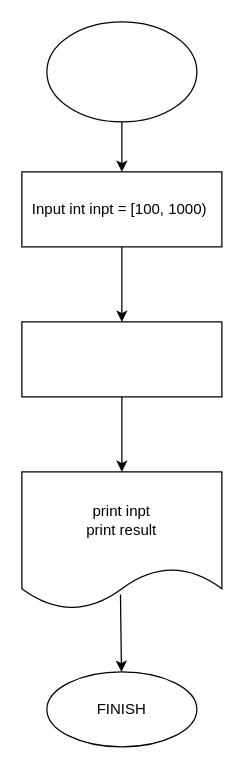
The diagram is 244 pixels wide and 769 high, and some of its shapes have lost their labels. Here are the shapes that lost their labels. From the top down, the box of each, then its label:
(46, 21, 197, 122): START
(21, 321, 222, 397): result = inpt / 10 % 10
